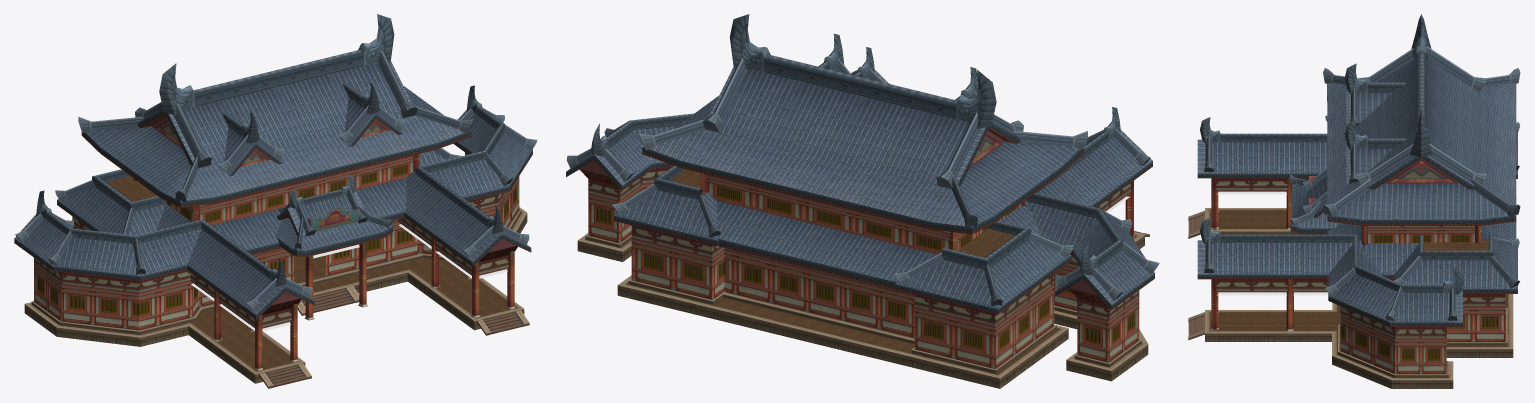
The picture shows the model from 3 angles, left to right: view 1: azimuth 30°, elevation 25°; view 2: azimuth 150°, elevation 25°; view 3: azimuth 270°, elevation 25°; orthographic projection. The views are drawn at different scales.
Visible parts, largest first — view 1: gujian_232, gujian_228, gujian_234, gujian_236, gujian_230, gujian_229, gujian_231, gujian_237, gujian_235; view 2: gujian_232, gujian_236, gujian_228, gujian_234, gujian_230, gujian_231; view 3: gujian_232, gujian_228, gujian_234, gujian_236, gujian_230, gujian_231, gujian_237, gujian_229.
Part boxes in pixels (x1,y1,x2,y2): gujian_232: (14, 61, 532, 319); gujian_228: (15, 14, 537, 310); gujian_234: (24, 152, 529, 388); gujian_236: (34, 156, 519, 329); gujian_230: (94, 176, 516, 370); gujian_229: (266, 289, 524, 387); gujian_231: (151, 116, 515, 305); gujian_237: (191, 224, 507, 331); gujian_235: (307, 206, 359, 232); gujian_232: (566, 67, 1154, 314); gujian_236: (588, 176, 1139, 368); gujian_228: (566, 14, 1159, 306); gujian_234: (577, 167, 1149, 388); gujian_230: (627, 169, 1135, 374); gujian_231: (580, 130, 1097, 295); gujian_232: (1197, 59, 1517, 326); gujian_228: (1200, 14, 1520, 321); gujian_234: (1188, 178, 1513, 388); gujian_236: (1340, 228, 1505, 373); gujian_230: (1210, 210, 1507, 367); gujian_231: (1385, 159, 1458, 183); gujian_237: (1217, 191, 1328, 295); gujian_229: (1188, 214, 1204, 335).
Size of the model in its own units: 369 by 227 by 165.
